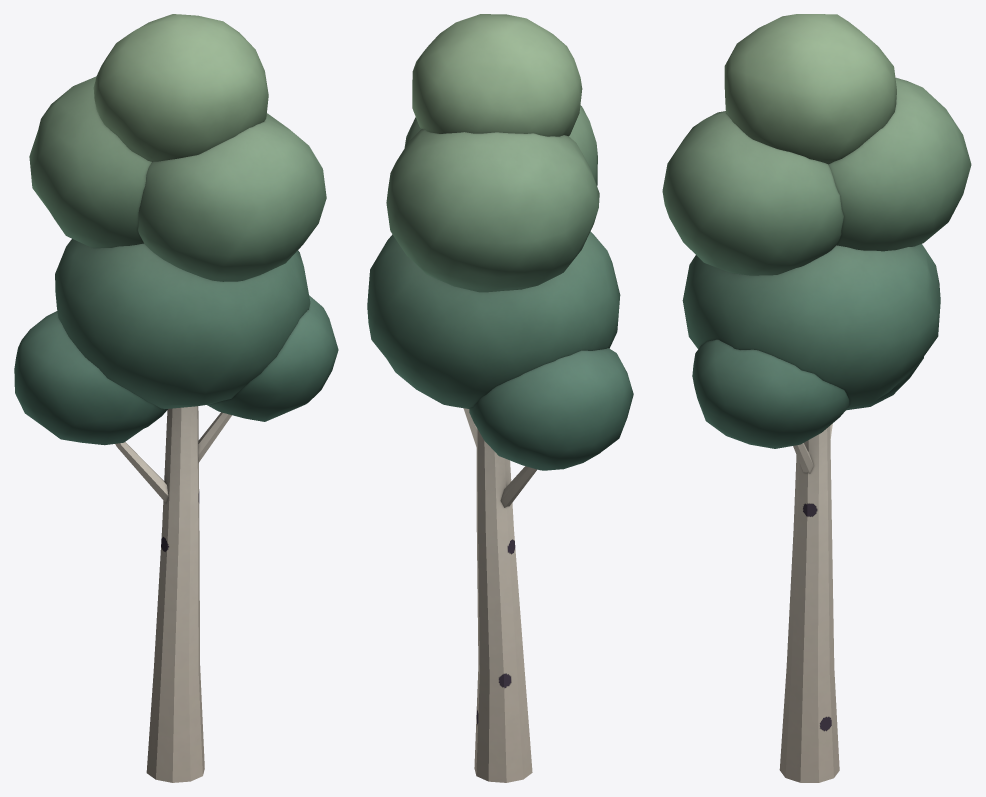
The model's file is decor_birch.fbx.
3 views of the same model, side by side, from view 1: azimuth 30°, elevation 25°; view 2: azimuth 150°, elevation 25°; view 3: azimuth 270°, elevation 25° (orthographic).
Visible parts, largest first — view 1: decor_birch; view 2: decor_birch; view 3: decor_birch.
Boxes of the visible parts, x1,y1,x2,y2 form: decor_birch: (14,14,338,782); decor_birch: (367,14,633,782); decor_birch: (662,14,971,782).
Size of the model in its own units: 811 by 2167 by 804.
Materials: 1 (1 with a texture image).
